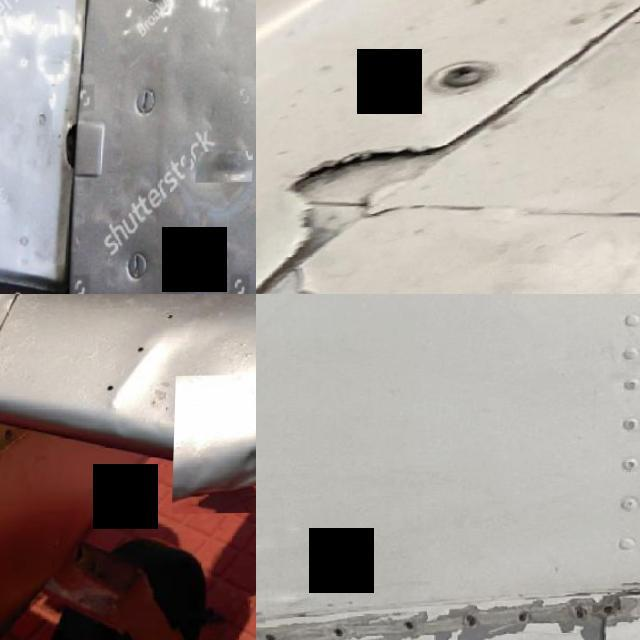Crack: (283, 139, 450, 253)
Dent: (174, 375, 256, 515), (199, 154, 256, 183)
Missing_Fastener: (405, 620, 421, 632), (604, 606, 622, 616), (574, 608, 588, 620), (335, 626, 349, 636), (520, 613, 532, 624)
